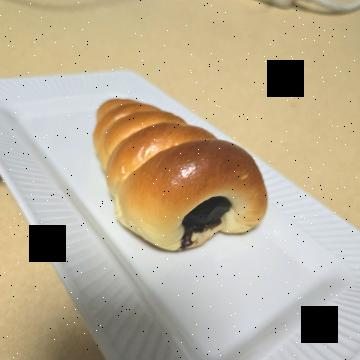cream horn: (82, 84, 279, 283)
